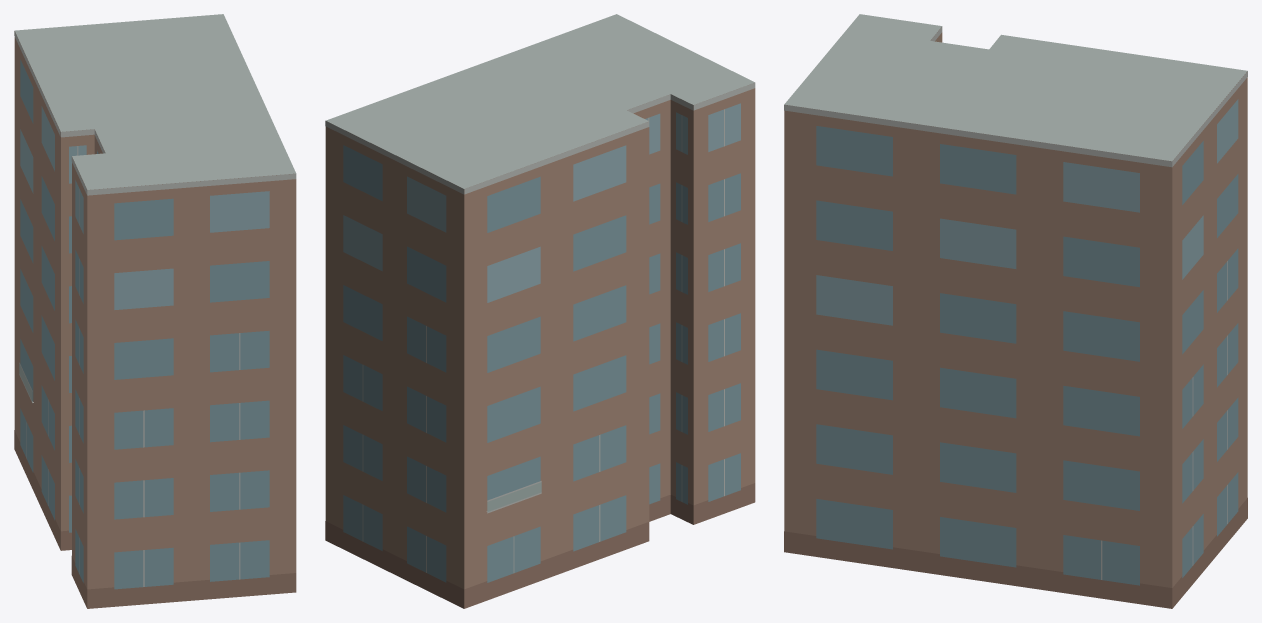
Rendered from survey-upis-32886801.glb.
3 views of the same model, side by side, from view 1: azimuth 30°, elevation 25°; view 2: azimuth 150°, elevation 25°; view 3: azimuth 270°, elevation 25° (orthographic). The views are drawn at different scales.
Parts seen in each view (by area): view 1: survey-upis-32886801.tmp; view 2: survey-upis-32886801.tmp; view 3: survey-upis-32886801.tmp.
Boxes of the visible parts, <box> form: survey-upis-32886801.tmp: <box>14,14,296,608</box>; survey-upis-32886801.tmp: <box>325,14,755,608</box>; survey-upis-32886801.tmp: <box>784,14,1247,608</box>.
Bounding box in the file's own units: 12.93 × 18.3 × 17.19.
